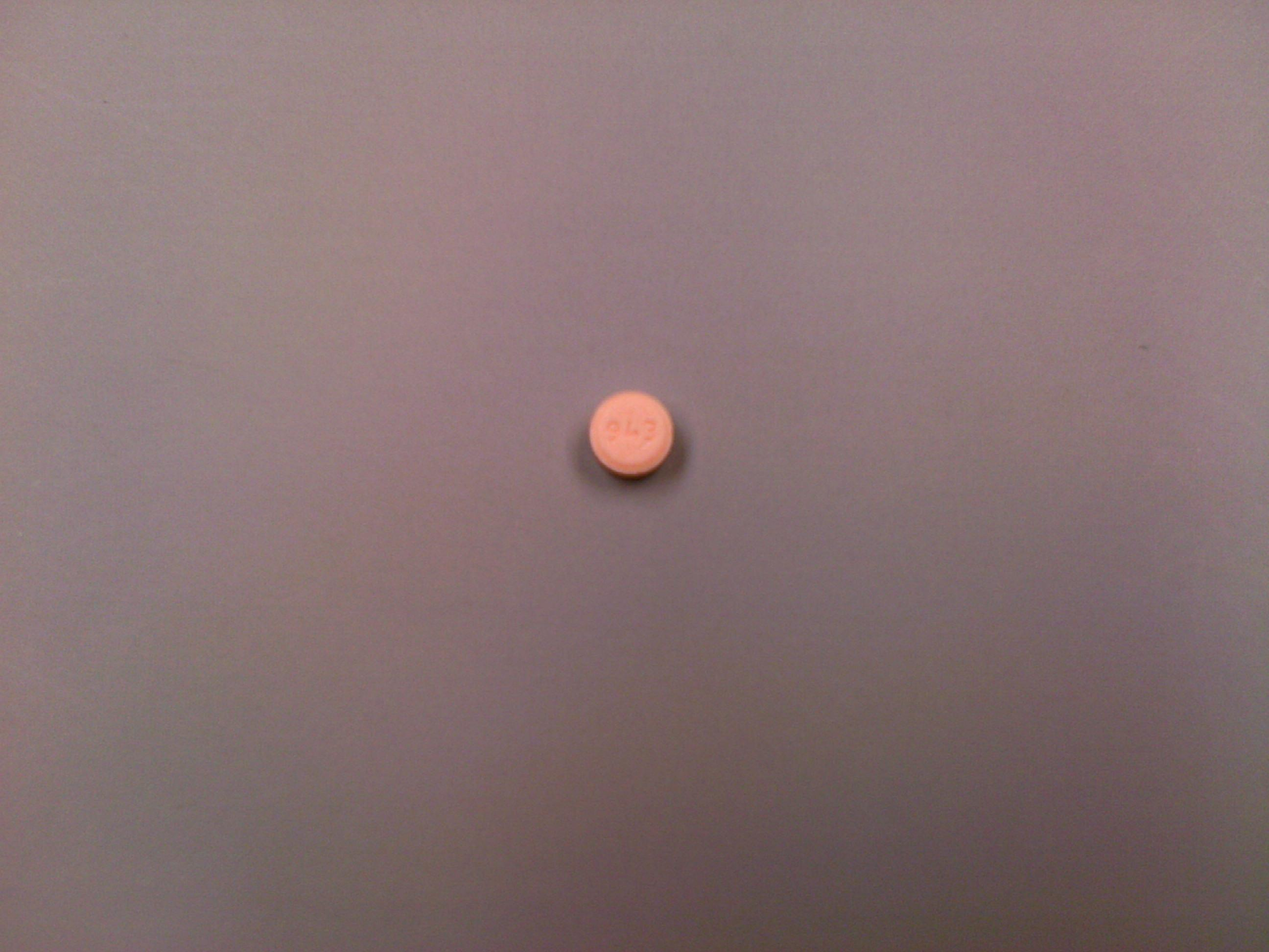Pill: (583, 385, 681, 485)
